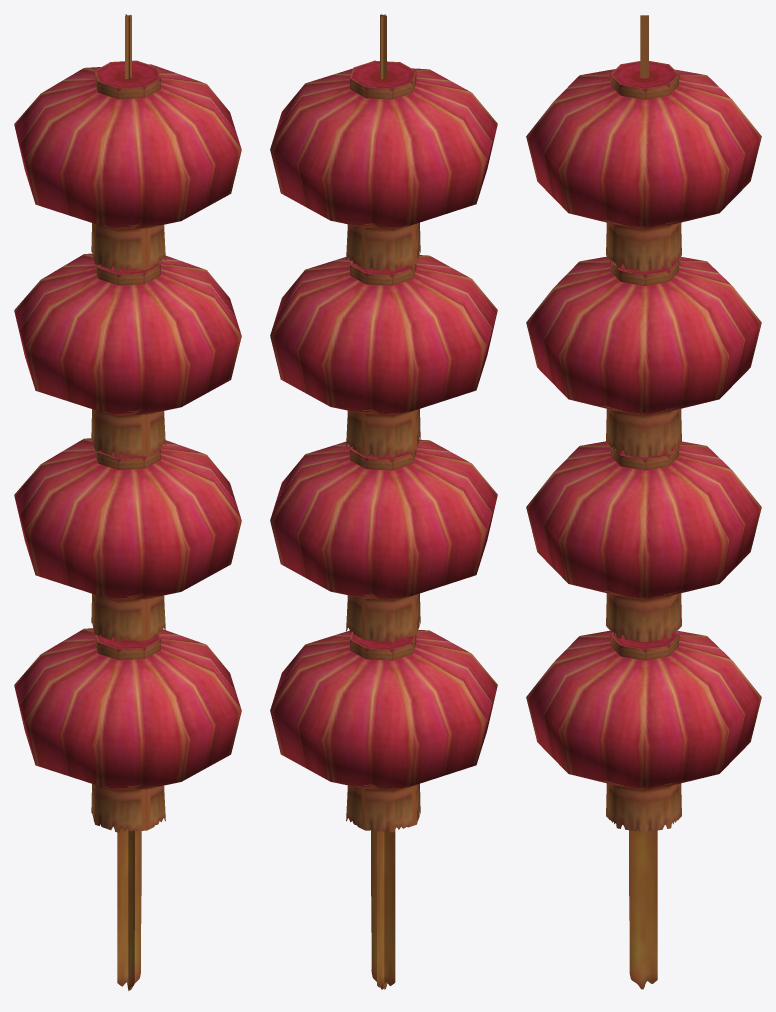
Rendered from ZYthi_gg_denglong01.FBX.
3 views of the same model, side by side, from view 1: azimuth 30°, elevation 25°; view 2: azimuth 150°, elevation 25°; view 3: azimuth 270°, elevation 25° (orthographic).
Parts seen in each view (by area): view 1: ZYthi_gg_denglong01; view 2: ZYthi_gg_denglong01; view 3: ZYthi_gg_denglong01.
Boxes of the visible parts, x1=… form: ZYthi_gg_denglong01: x1=14, y1=14, x2=241, y2=990; ZYthi_gg_denglong01: x1=270, y1=14, x2=497, y2=989; ZYthi_gg_denglong01: x1=526, y1=15, x2=761, y2=989.
Size of the model in its own units: 57.23 by 262 by 57.23.
